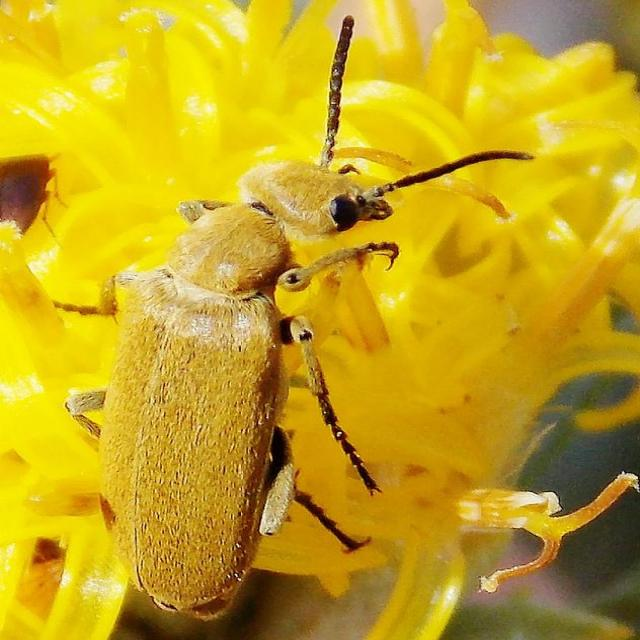BlisterBeetle-Adult-: (90, 12, 544, 627)
